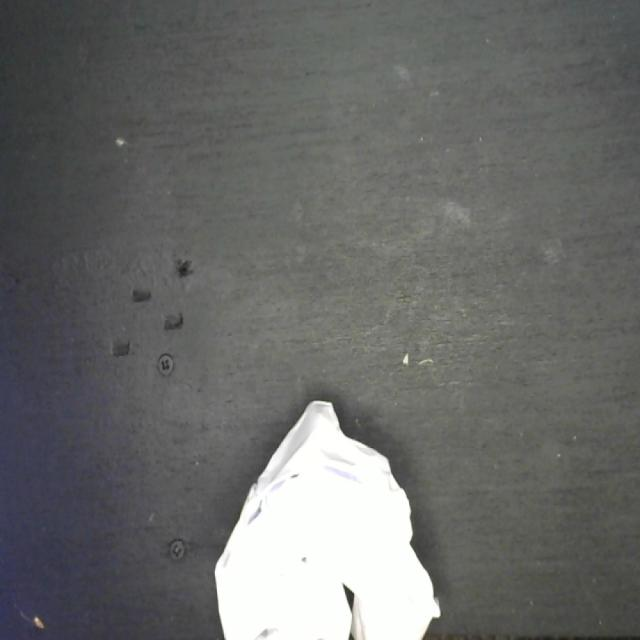biodegradable: (209, 394, 443, 640)
